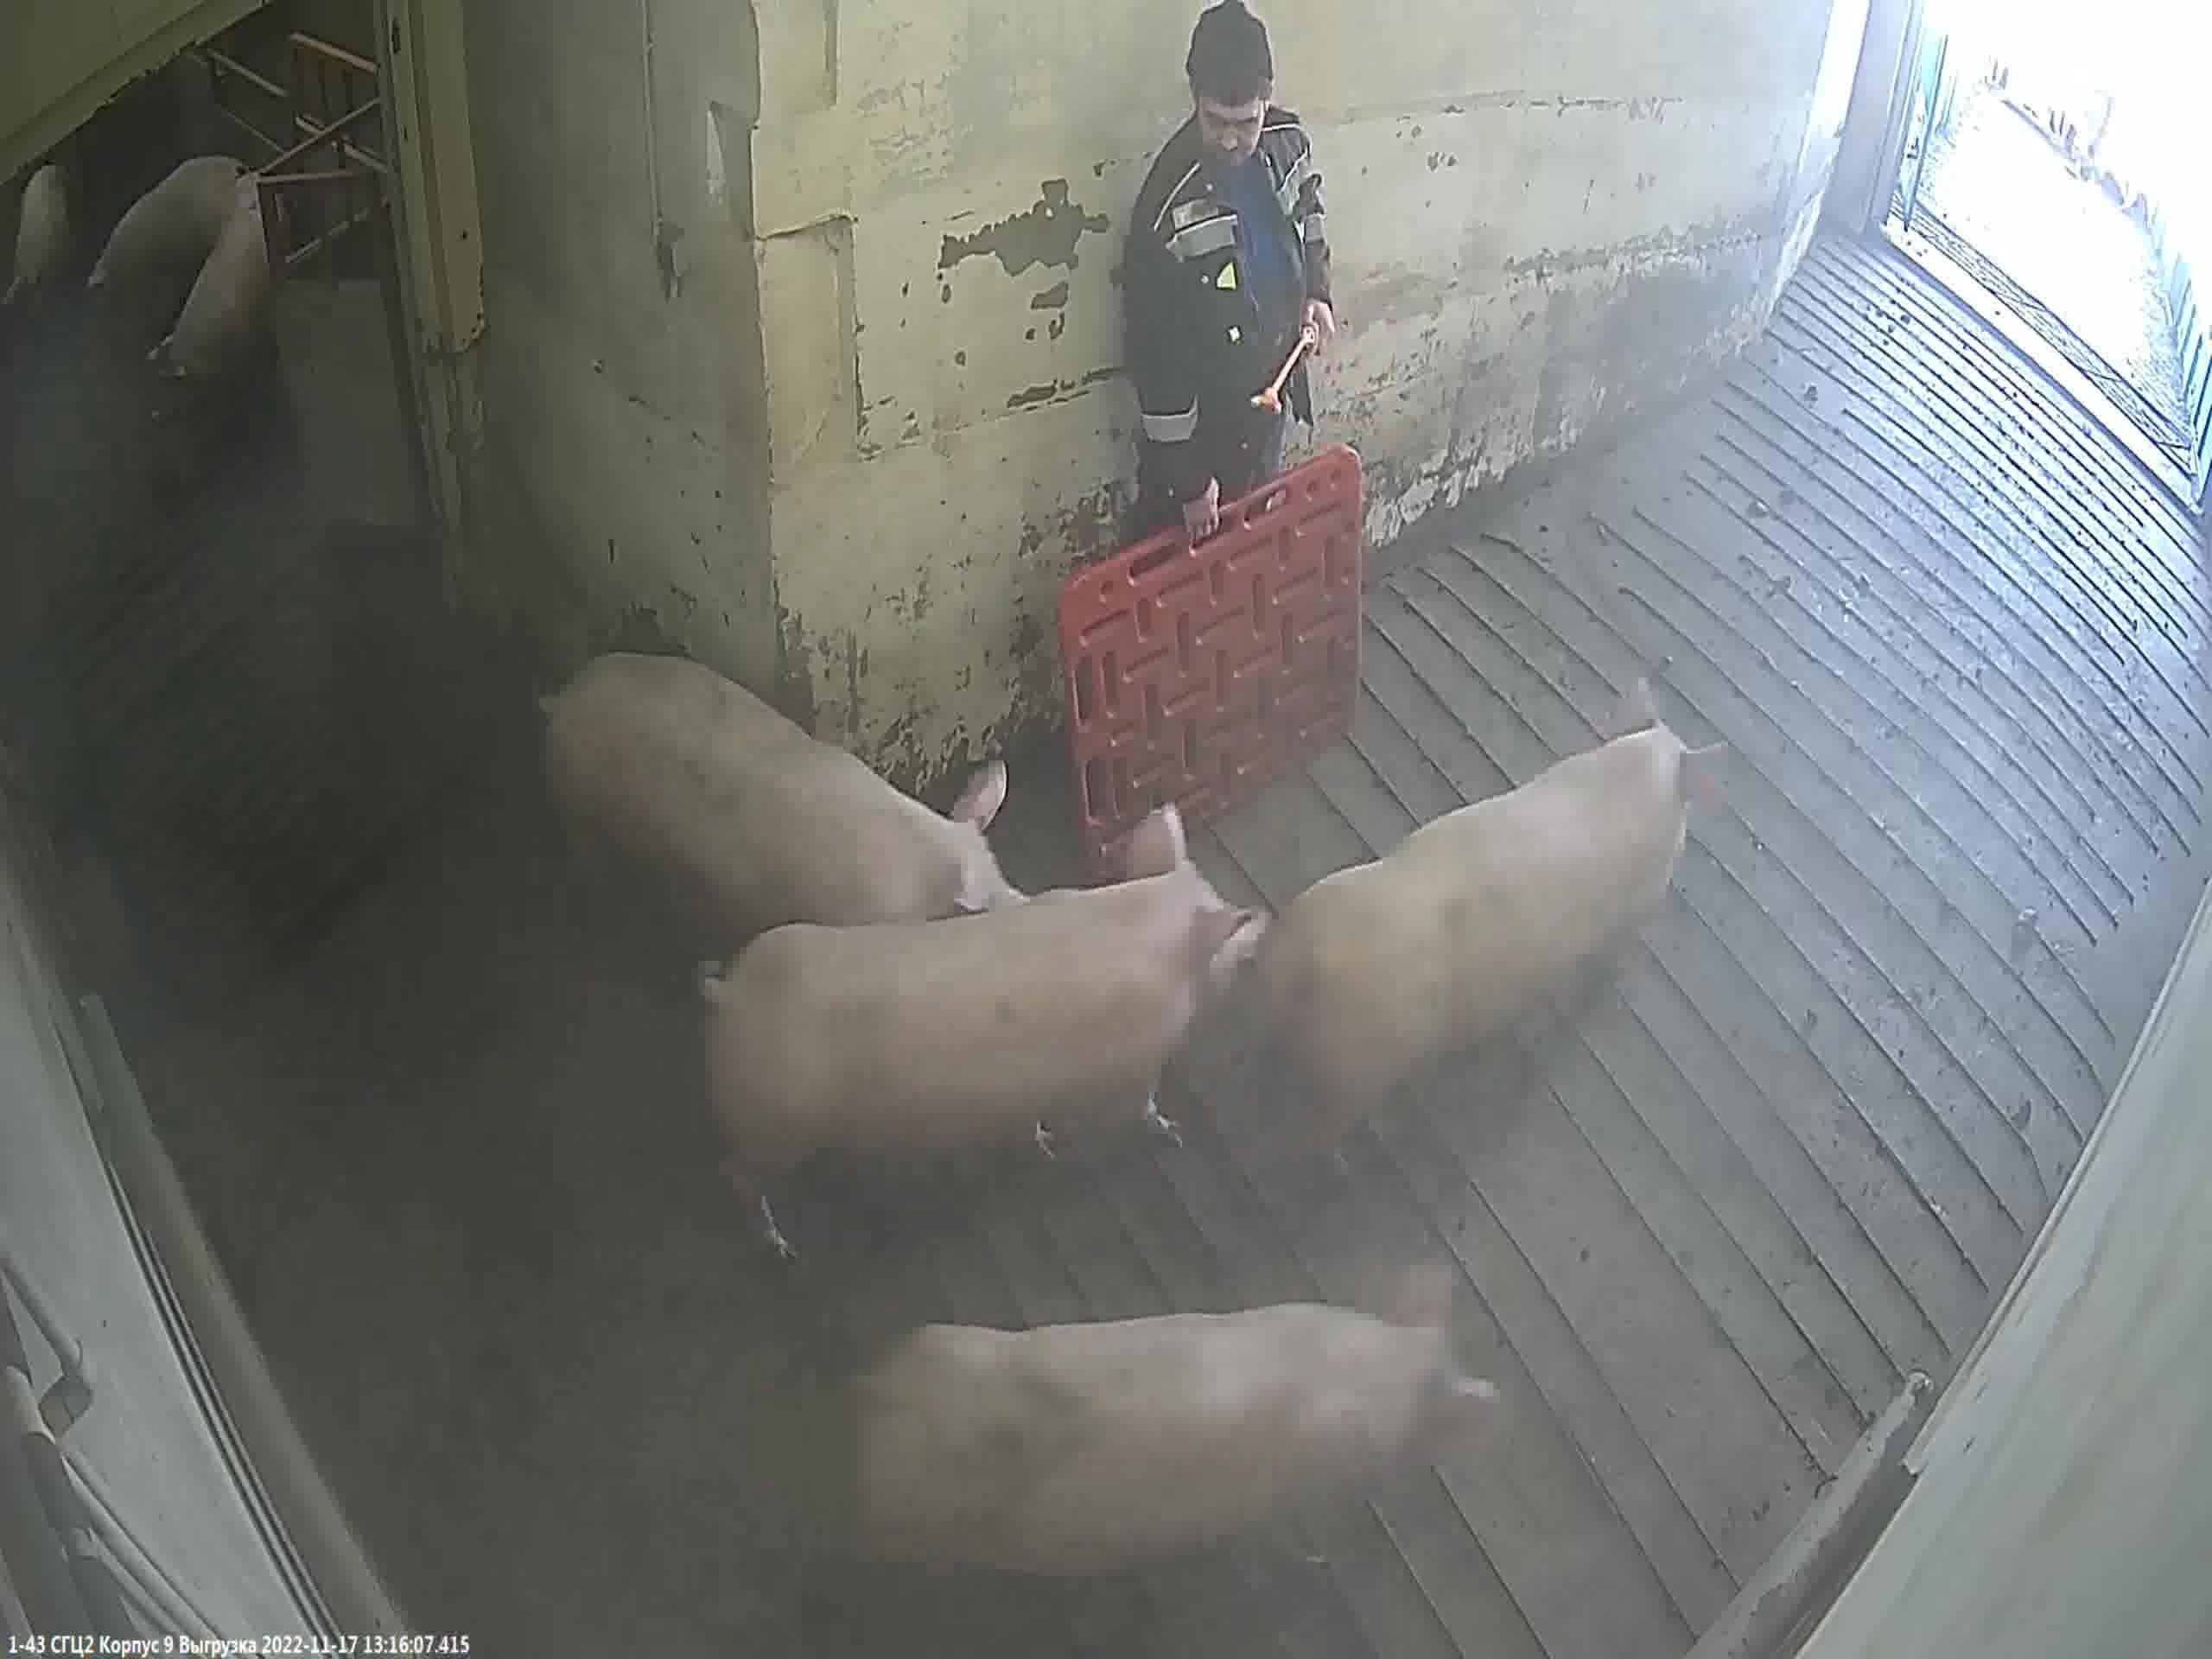Pigs: (702, 863, 1271, 1253), (1261, 725, 1688, 1159), (846, 1303, 1480, 1589), (535, 653, 1024, 997), (136, 178, 275, 432), (92, 157, 242, 349), (0, 174, 75, 328)
